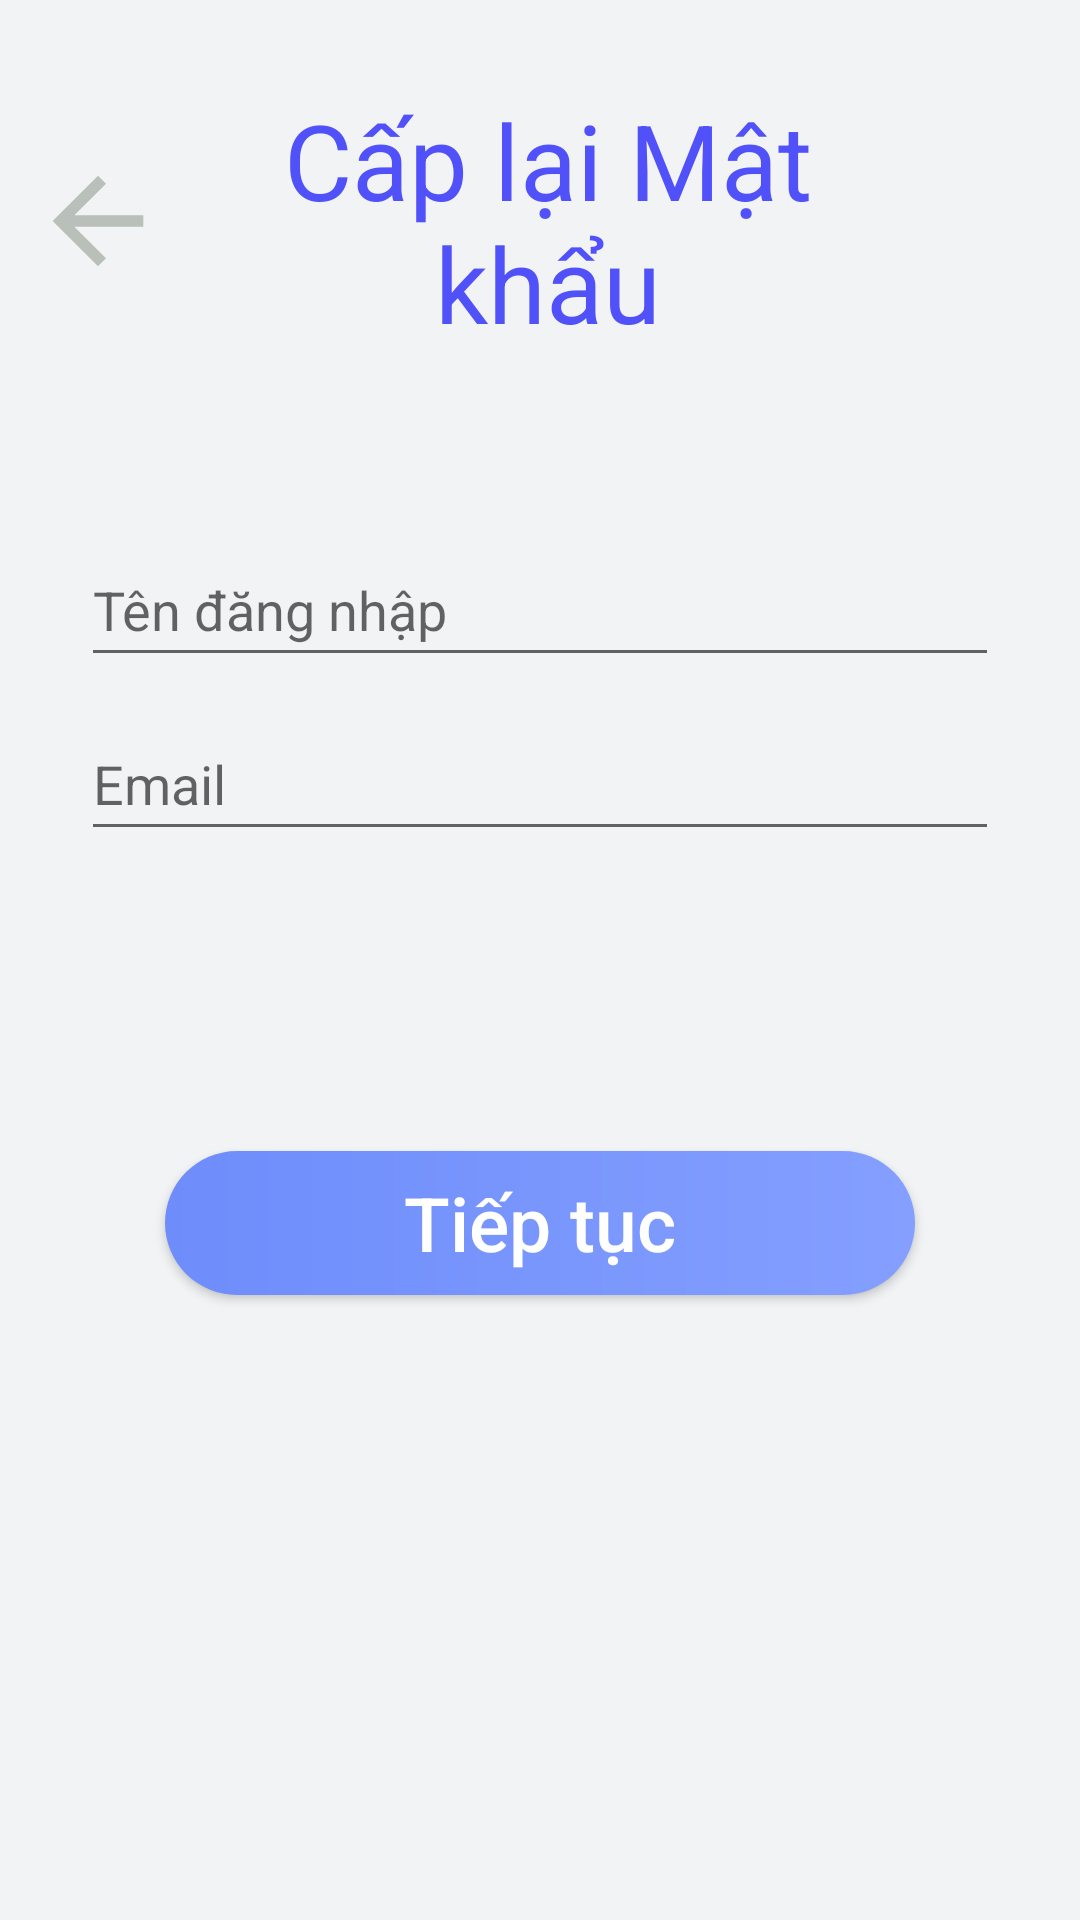

Screen size 1080*1920. Icon name, then its center in pixels as (x=x, y=y):
back: (x=98, y=221)
